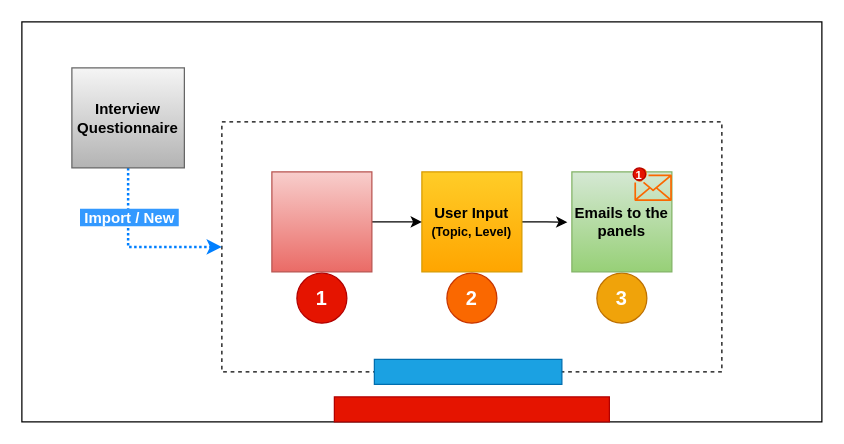
Some shapes in this 844 by 444 pixel diagram are drawn without their labels. The box of each missing label's shape, as (x1, y1, x2, y2) in pixels:
Interview Questionnaire Flow: (333, 396, 609, 422)
Panel selection: (271, 171, 372, 272)
Salesforce Community: (373, 358, 562, 384)
